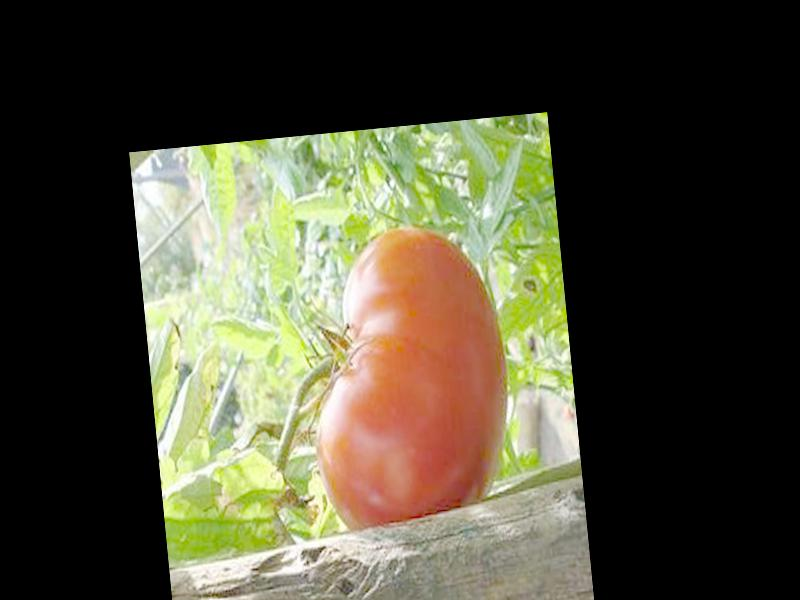Tomato: (295, 218, 518, 537)
